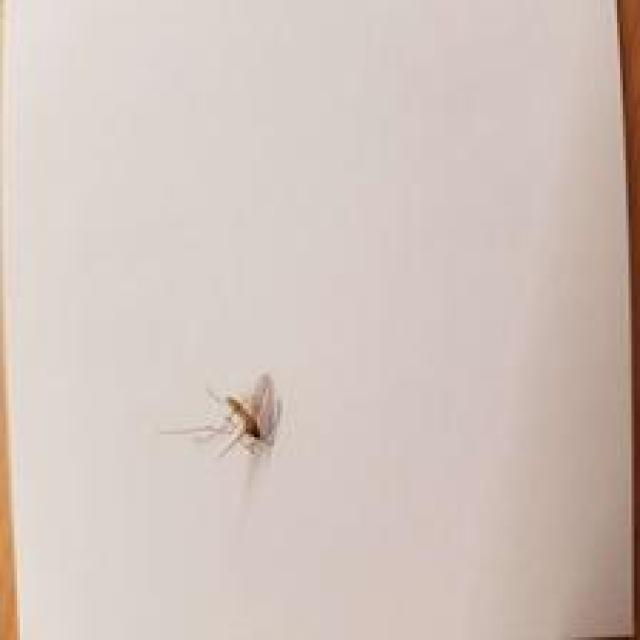Culex: (160, 368, 283, 463)
